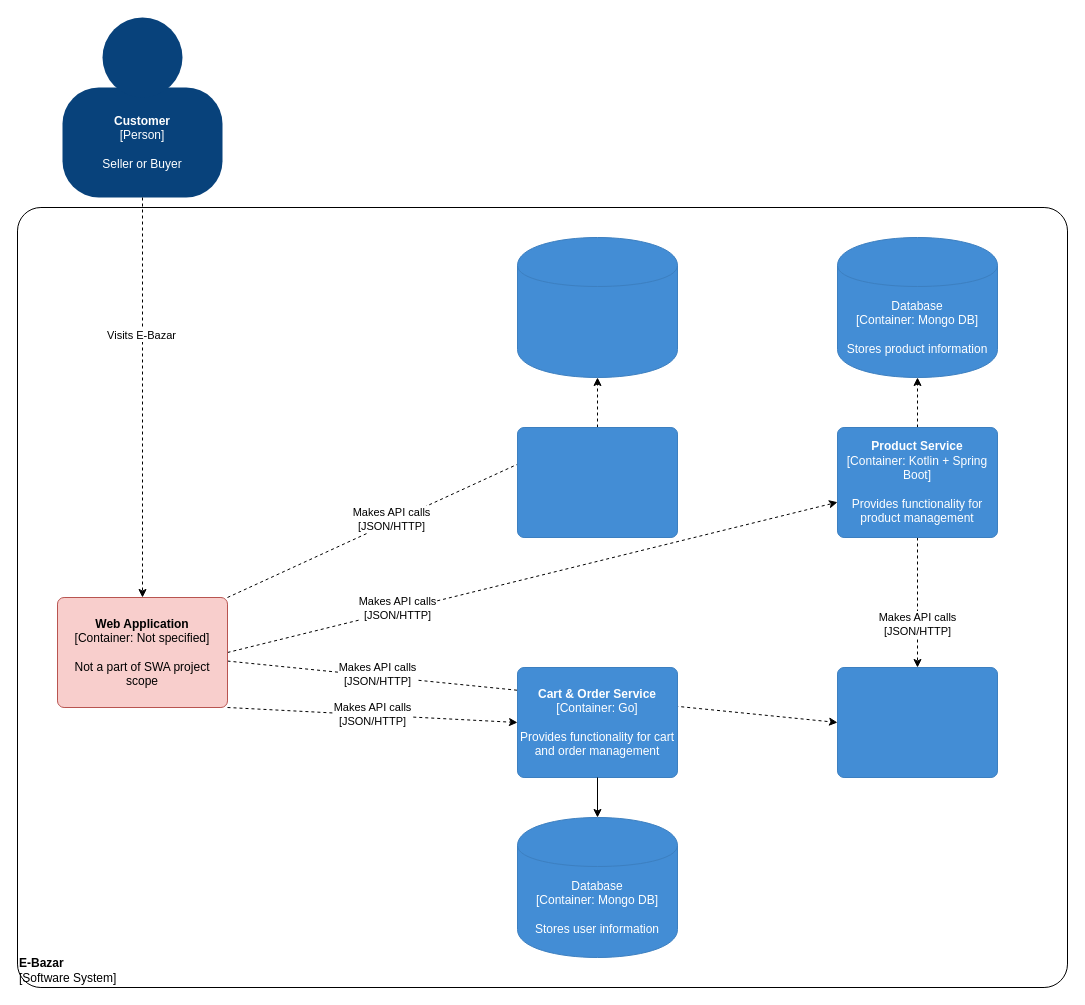
Image size: 1085x1005. Some labels were removed from this diagram. The centre of each missing label's shape, as x and y in pixels:
Auth Service [Container: Rust ] Provides functionality for user management: the point at 597,482
Database [Container: Postgres DB] Stores user information: the point at 597,307
Review Service [Container: ]: the point at 917,722
